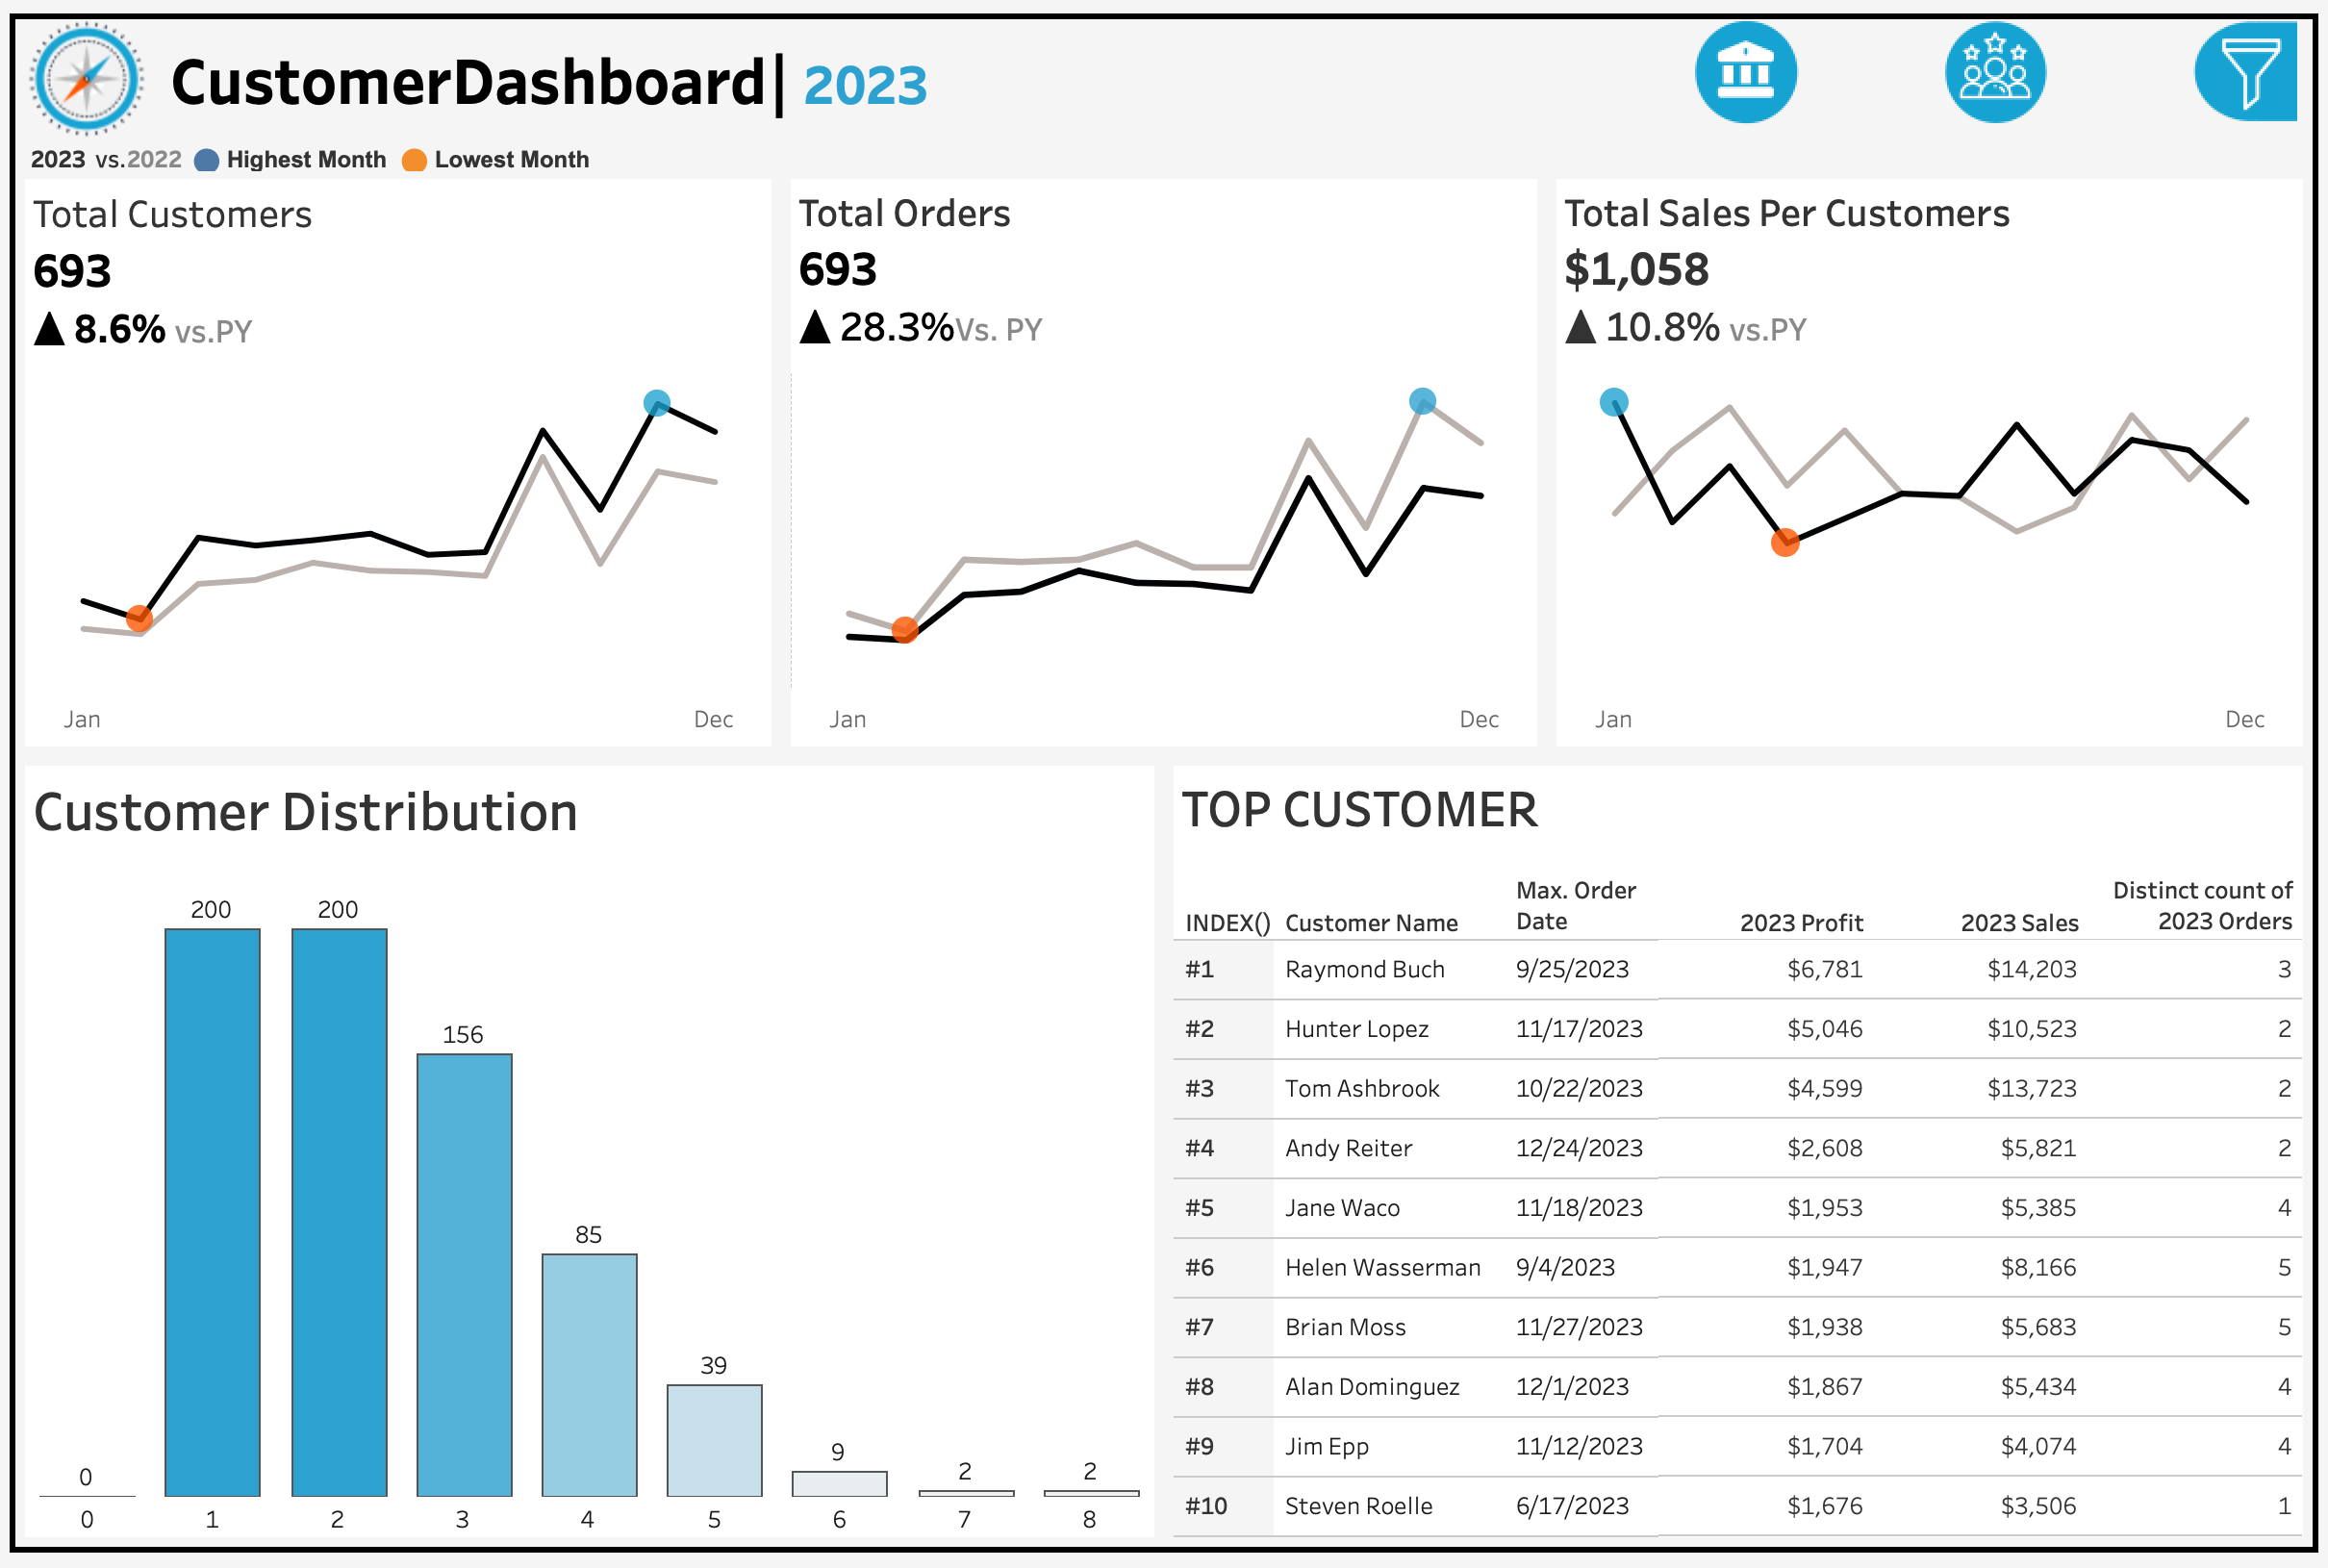

This screenshot's page, from the dashboard's own definition file:
{"tool":"tableau","page":{"name":"Customer Dashboard","canvas":[1200,800],"ordinal":0},"visuals":[{"type":"image","param":"Image/Icon - Customer Dashboard.png","box":[3,3,65,63]},{"type":"text","box":[68,3,849,63]},{"type":"worksheet","title":"Legend KPI ","mark":"Automatic","box":[3,66,1194,20]},{"type":"worksheet","title":"KPI  Customers","mark":"Line","rows":["Calculation_0900235597779007"],"cols":["Order Date"],"box":[3,86,398,300]},{"type":"worksheet","title":"KPI Orders","mark":"Automatic","rows":["Calculation_0900235850768464"],"cols":["Order Date"],"box":[401,86,398,300]},{"type":"worksheet","title":"KPI Sales Per Customer ","mark":"Line","rows":["Calculation_0900235804143685"],"cols":["Order Date"],"box":[799,86,398,300]},{"type":"blank","box":[967,87,229,35]},{"type":"text","box":[967,122,229,36]},{"type":"parameter","param":"[Parameters].[Parameter 1]","box":[967,158,229,108]},{"type":"text","box":[967,266,229,30]},{"type":"filter","title":"KPI  Customers","param":"[federated.1gy05rg1pslwb71a44vzs05q2c62].[none:Category:nk]","box":[967,296,229,52]},{"type":"filter","title":"KPI  Customers","param":"[federated.1gy05rg1pslwb71a44vzs05q2c62].[none:Sub-Category:nk]","box":[967,348,229,52]},{"type":"worksheet","title":"Customer Distribution","mark":"Automatic","rows":["Calculation_0900235569651772"],"cols":["Calculation_0900236307767395"],"box":[3,386,597,411]},{"type":"worksheet","title":"Top Customer","mark":"Automatic","rows":["Calculation_0900236299214939","Customer Name","Order Date"],"box":[600,386,597,411]},{"type":"blank","box":[967,400,229,65]},{"type":"text","box":[967,465,229,30]},{"type":"filter","title":"KPI  Customers","param":"[federated.1gy05rg1pslwb71a44vzs05q2c62].[none:Region:nk]","box":[967,495,229,52]},{"type":"filter","title":"KPI  Customers","param":"[federated.1gy05rg1pslwb71a44vzs05q2c62].[none:State:nk]","box":[967,547,229,52]},{"type":"filter","title":"KPI  Customers","param":"[federated.1gy05rg1pslwb71a44vzs05q2c62].[none:City:nk]","box":[967,599,229,52]}]}

Visuals, with their boxes in screenshot pixels (x1, y1, x2, y2), scaled from the page's 1200x800 canvas onto the 2328x1568 screenshot:
image: <region>6, 6, 132, 129</region>
text: <region>132, 6, 1779, 129</region>
"Legend KPI " worksheet: <region>6, 129, 2322, 168</region>
"KPI  Customers" worksheet (Line marks): <region>6, 168, 778, 756</region>
"KPI Orders" worksheet: <region>778, 168, 1550, 756</region>
"KPI Sales Per Customer " worksheet (Line marks): <region>1550, 168, 2322, 756</region>
blank: <region>1876, 170, 2320, 240</region>
text: <region>1876, 240, 2320, 310</region>
parameter: <region>1876, 310, 2320, 521</region>
text: <region>1876, 521, 2320, 580</region>
"KPI  Customers" filter: <region>1876, 580, 2320, 682</region>
"KPI  Customers" filter: <region>1876, 682, 2320, 784</region>
"Customer Distribution" worksheet: <region>6, 756, 1164, 1562</region>
"Top Customer" worksheet: <region>1164, 756, 2322, 1562</region>
blank: <region>1876, 784, 2320, 911</region>
text: <region>1876, 911, 2320, 971</region>
"KPI  Customers" filter: <region>1876, 971, 2320, 1073</region>
"KPI  Customers" filter: <region>1876, 1073, 2320, 1174</region>
"KPI  Customers" filter: <region>1876, 1174, 2320, 1276</region>
